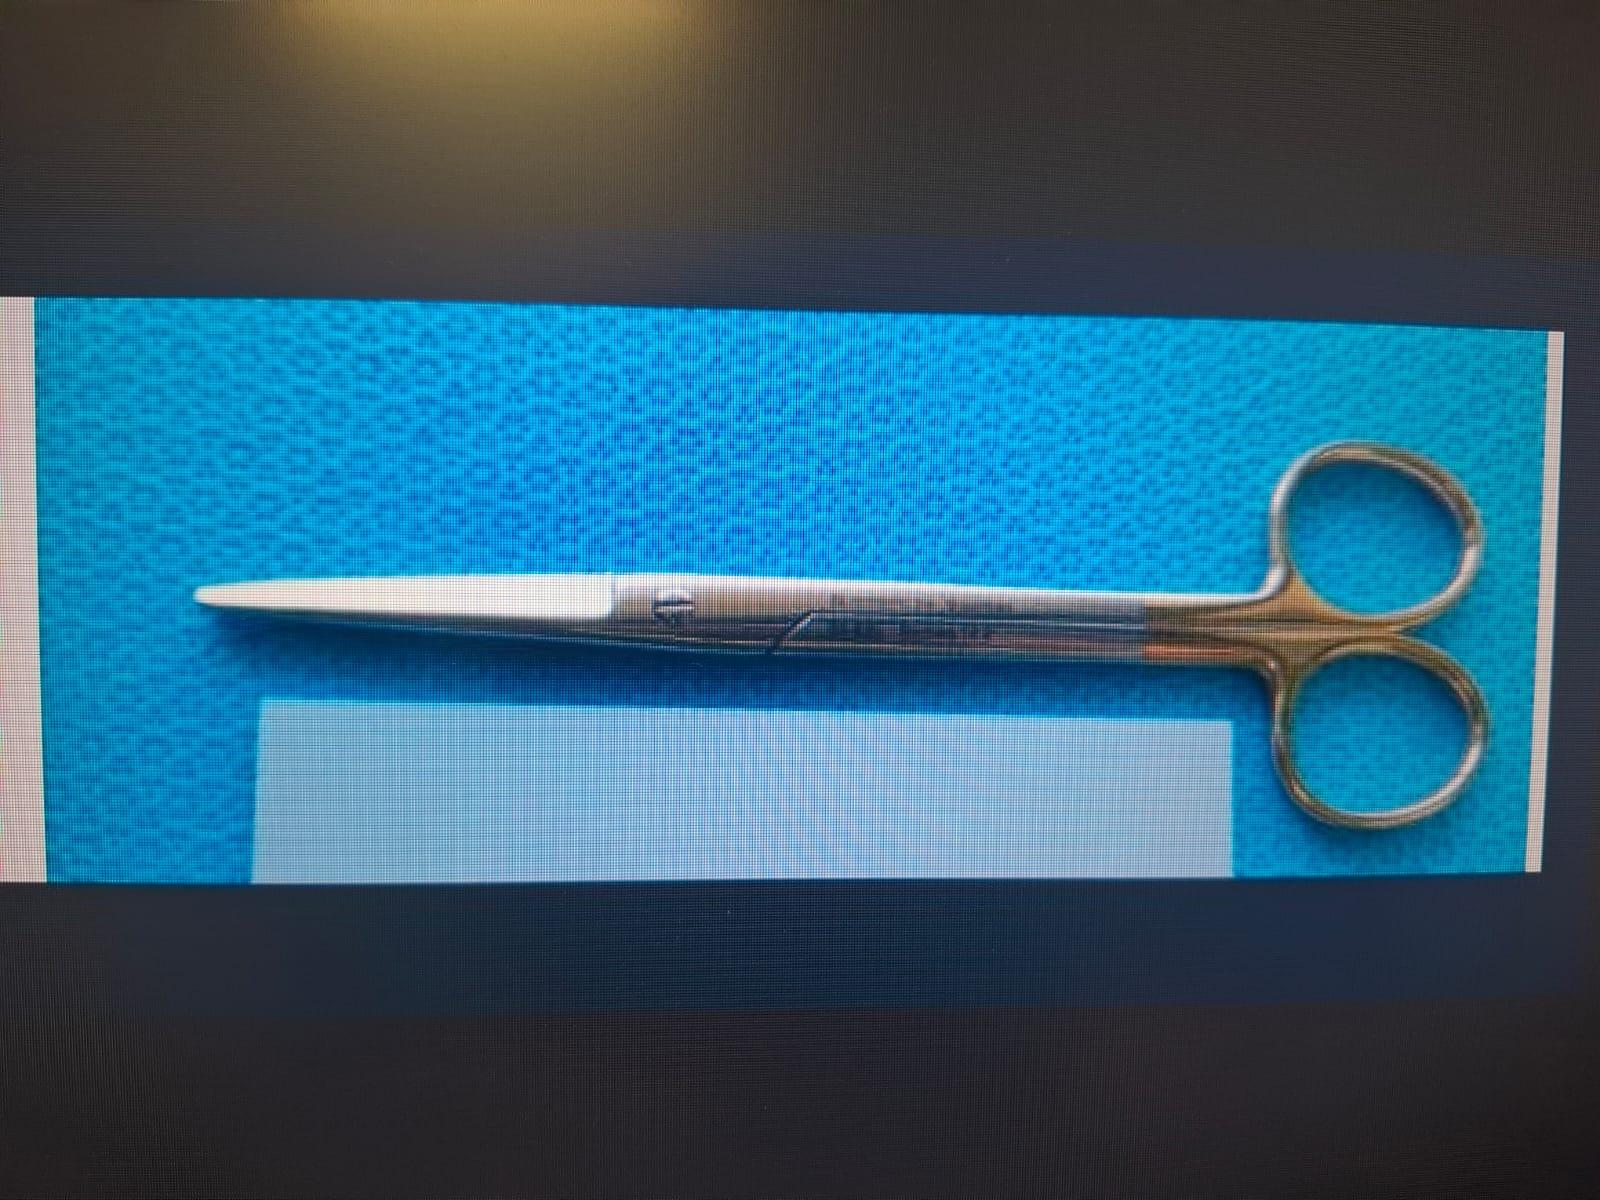Straight Mayo: (172, 404, 1514, 848)
